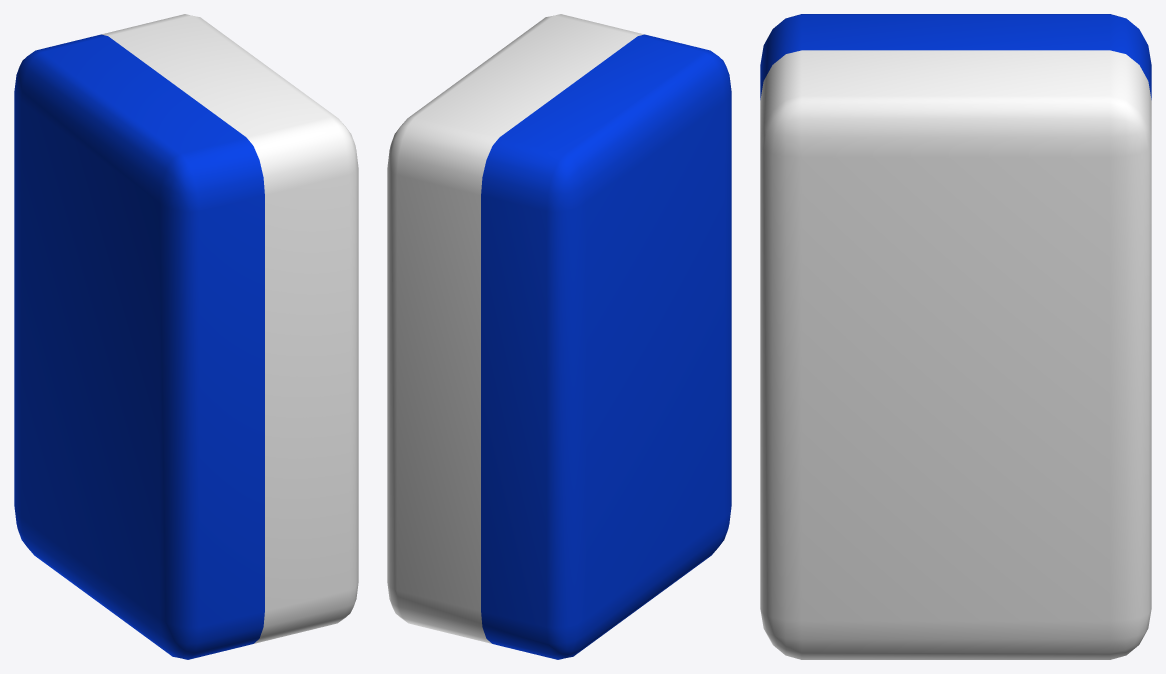
File: Blue3DCard.fbx
The picture shows the model from 3 angles, left to right: view 1: azimuth 30°, elevation 25°; view 2: azimuth 150°, elevation 25°; view 3: azimuth 270°, elevation 25°; orthographic projection. The views are drawn at different scales.
Visible parts, largest first — view 1: 立方体; view 2: 立方体; view 3: 立方体.
Part boxes in pixels (x1,y1,x2,y2): 立方体: (14, 14, 358, 659); 立方体: (387, 14, 731, 659); 立方体: (760, 14, 1151, 659).
Size of the model in its own units: 180 by 452 by 285.
